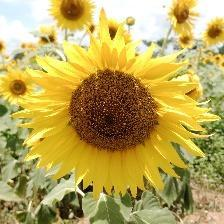sunflower: (30, 41, 198, 191), (49, 1, 96, 30), (1, 70, 40, 104), (164, 1, 200, 36), (100, 18, 129, 46), (179, 32, 195, 51), (39, 32, 58, 46), (88, 22, 98, 39), (126, 16, 137, 30), (20, 42, 30, 53), (1, 40, 8, 54), (206, 53, 215, 60), (215, 57, 222, 63), (220, 61, 224, 71)
